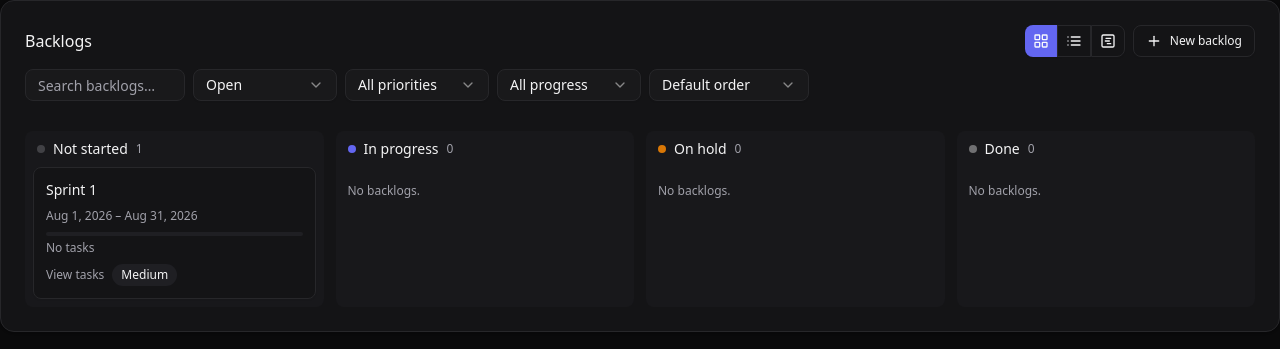
Test: BacklogListSection › switches to the timeline view mode and back
The width and height of the screenshot is (1280, 349).
Step 1. Click the button named "Timeline" → (1108, 41), box [1091,25,1125,57]
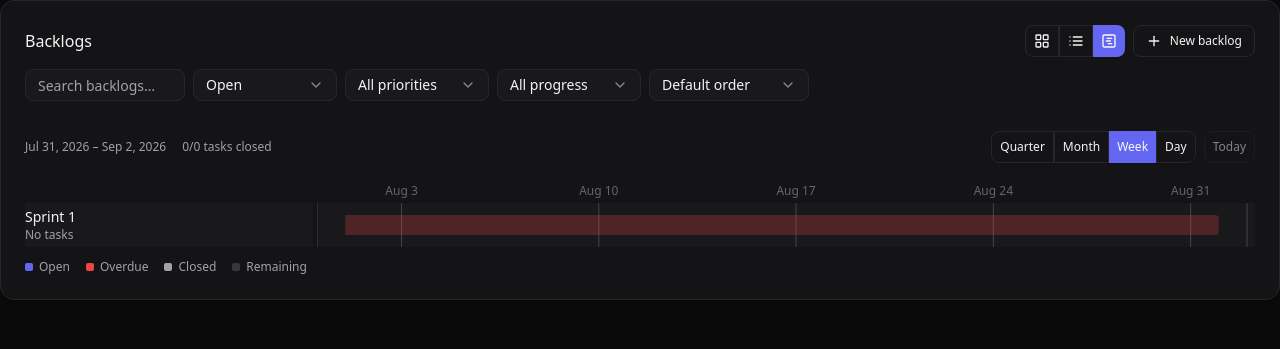
Now the list named "Bar colours" is shown, box [25,258,307,275]
Step 2. Click the button named "List" → (1076, 41), box [1059,25,1093,57]
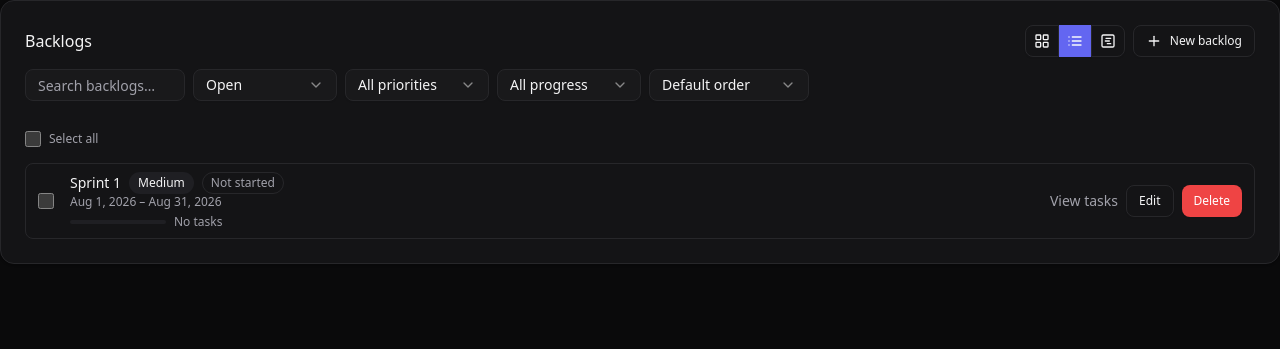
Now the button "Delete" is shown, box [1182,185,1242,217]
